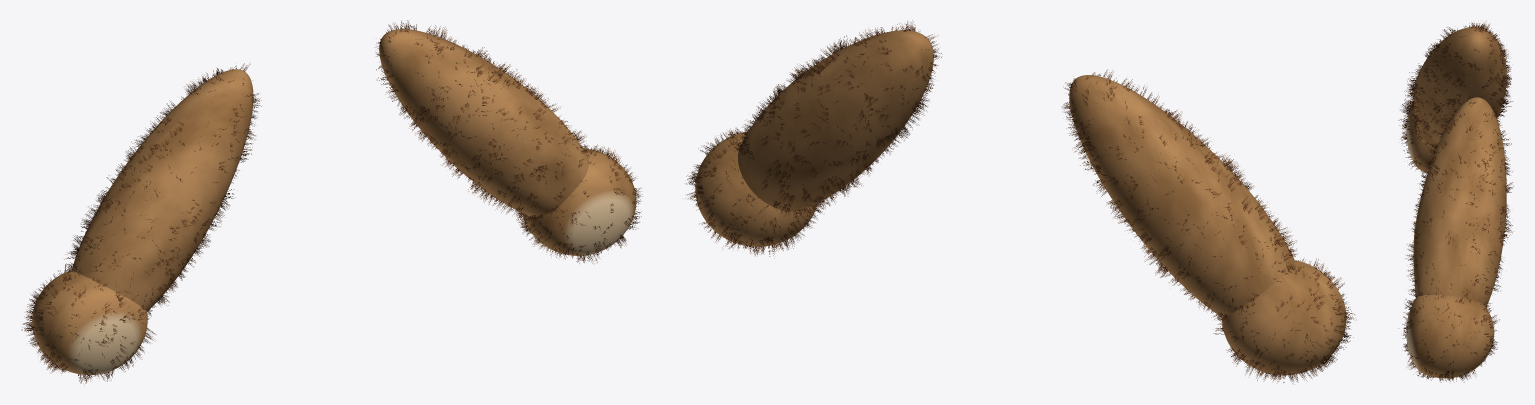
Rendered from TeddyBear_Arms.fbx.
3 renders of one model, left to right at view 1: azimuth 30°, elevation 25°; view 2: azimuth 150°, elevation 25°; view 3: azimuth 270°, elevation 25°, orthographic. The views are drawn at different scales.
Parts seen in each view (by area): view 1: Arms, Arms_Fur; view 2: Arms, Arms_Fur; view 3: Arms, Arms_Fur.
Part boxes in pixels (box(x1,y1,x2,y2)): Arms: box(32, 29, 636, 374); Arms_Fur: box(21, 20, 642, 383); Arms: box(695, 30, 1346, 375); Arms_Fur: box(686, 20, 1356, 384); Arms: box(1406, 27, 1506, 378); Arms_Fur: box(1398, 21, 1513, 382).
Size of the model in its own units: 1.06 by 0.4525 by 0.2287.
Materials: 2 (2 with a texture image).
